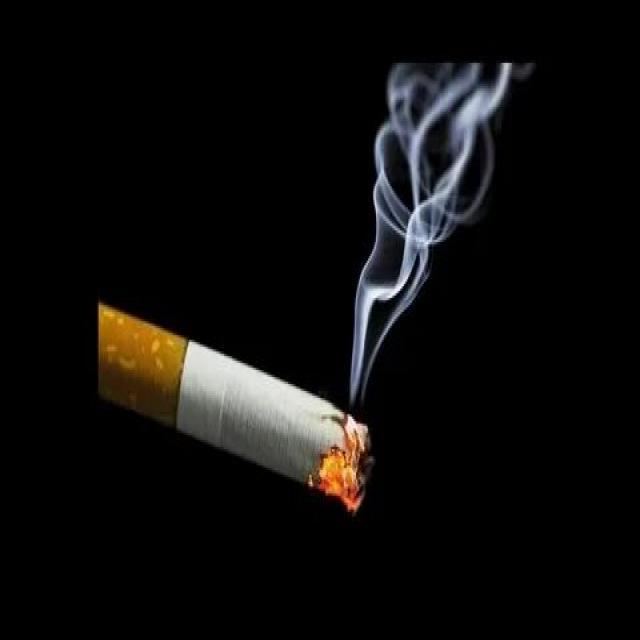cigarette: (99, 288, 376, 524)
